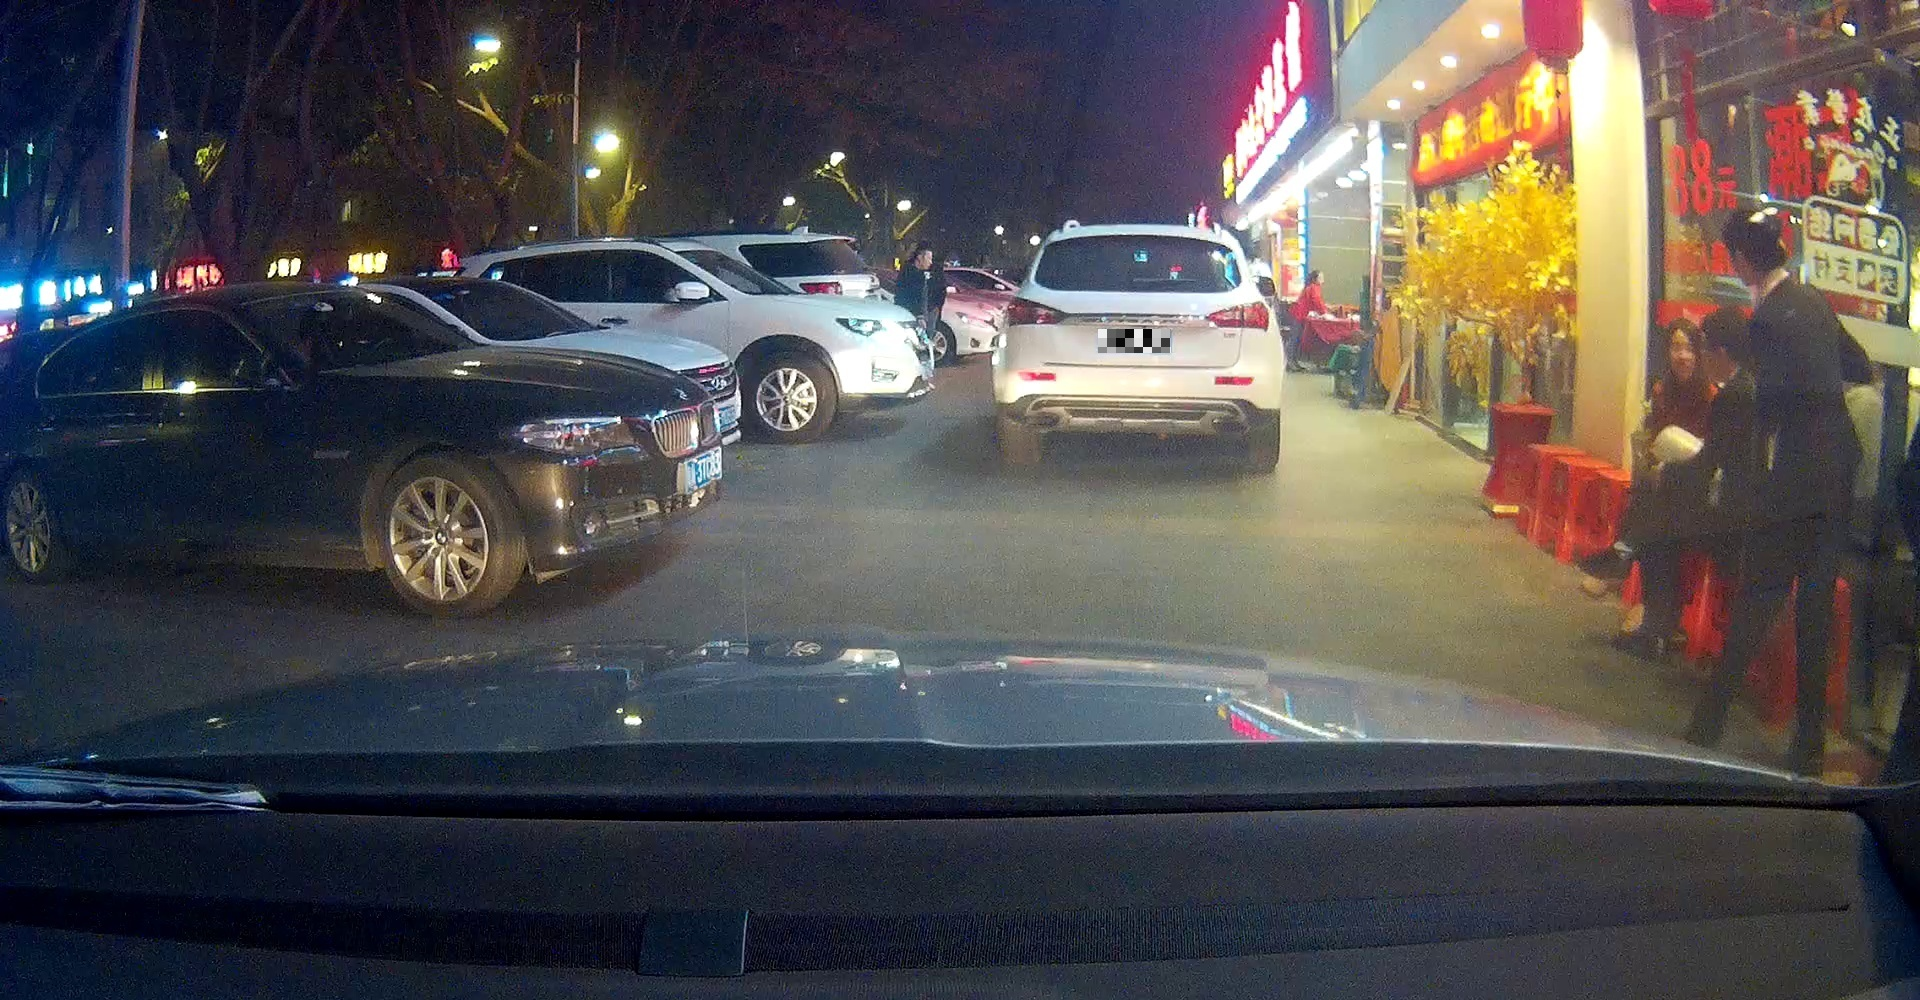L_light: (1006, 294, 1070, 326)
R_light: (1204, 301, 1269, 331)
T_light: (1115, 234, 1159, 242)
night-no: (992, 225, 1284, 467)
plate_1: (1098, 329, 1171, 353)
